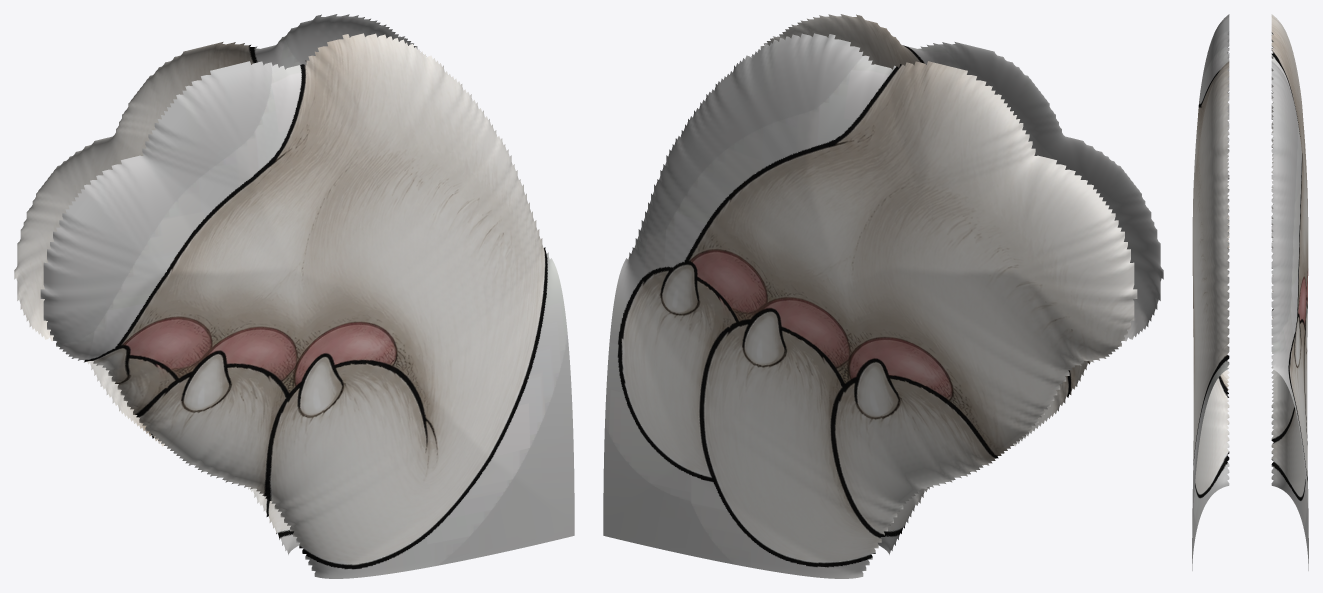
Rendered from paw_rabbit.glb.
3 renders of one model, left to right at view 1: azimuth 30°, elevation 25°; view 2: azimuth 150°, elevation 25°; view 3: azimuth 270°, elevation 25°, orthographic. The views are drawn at different scales.
Size of the model in its own units: 0.9765 by 0.9765 by 0.24.
1 material, 1 textured.
